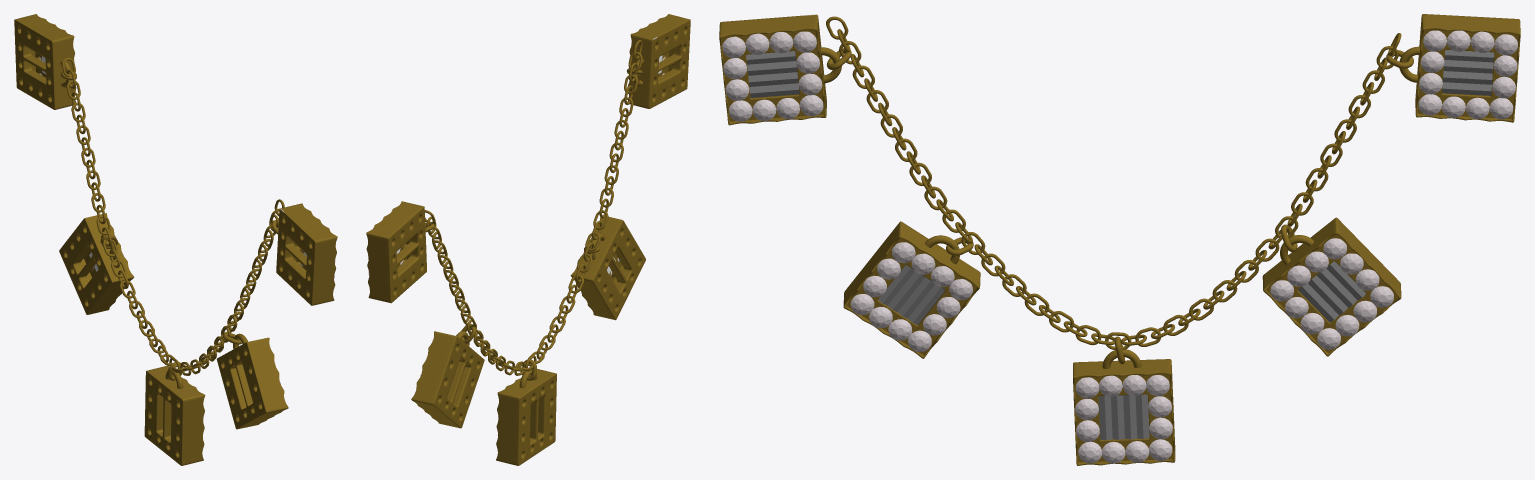
Rendered from Necklace2.glb.
3 renders of one model, left to right at view 1: azimuth 30°, elevation 25°; view 2: azimuth 150°, elevation 25°; view 3: azimuth 270°, elevation 25°, orthographic. The views are drawn at different scales.
Visible parts, largest first — view 1: Plane.003, Torus.001, Torus.002, Plane.001; view 2: Plane.003, Torus.001, Torus.002, Plane.001; view 3: Plane.006, Plane.003, Torus.001, Plane.001, Torus.002.
Part boxes in pixels (x1=…): Plane.003: x1=14, y1=14, x2=337, y2=465; Torus.001: x1=62, y1=57, x2=284, y2=375; Torus.002: x1=61, y1=71, x2=278, y2=380; Plane.001: x1=60, y1=60, x2=247, y2=388; Plane.003: x1=366, y1=14, x2=690, y2=465; Torus.001: x1=425, y1=40, x2=642, y2=375; Torus.002: x1=425, y1=68, x2=642, y2=380; Plane.001: x1=456, y1=59, x2=643, y2=388; Plane.006: x1=722, y1=14, x2=1517, y2=463; Plane.003: x1=719, y1=14, x2=1520, y2=465; Torus.001: x1=826, y1=16, x2=1401, y2=349; Plane.001: x1=820, y1=46, x2=1419, y2=368; Torus.002: x1=827, y1=48, x2=1413, y2=364.
Size of the model in its own units: 0.1703 by 1.97 by 3.24.
